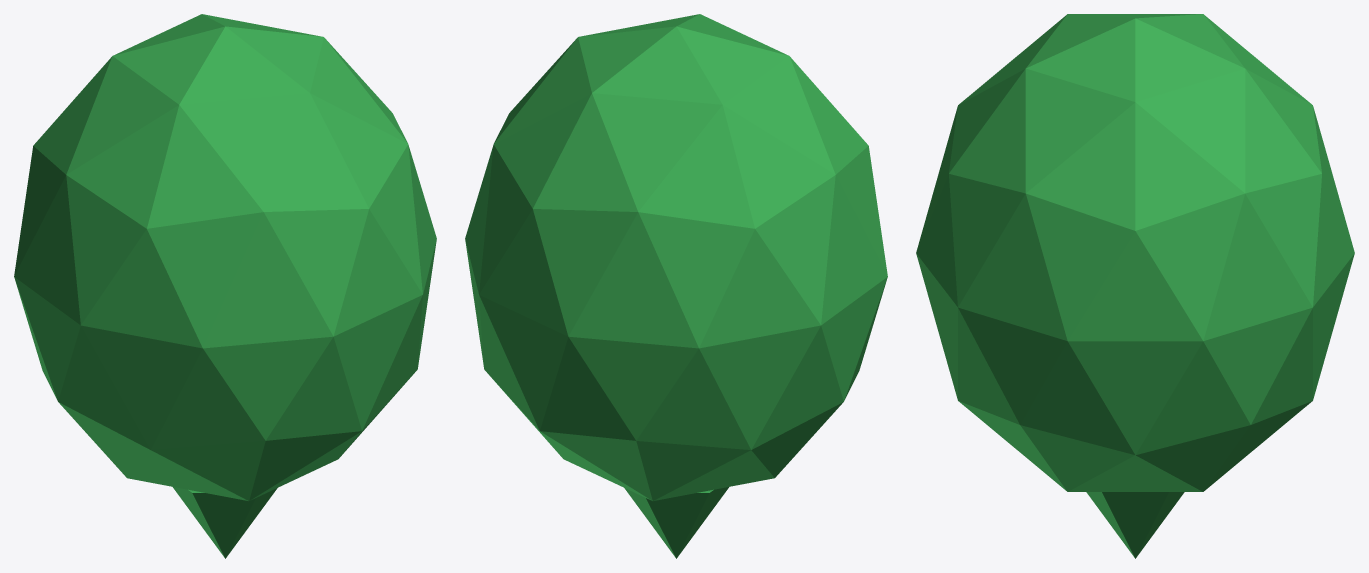
Rendered from balloon_green.glb.
The picture shows the model from 3 angles, left to right: view 1: azimuth 30°, elevation 25°; view 2: azimuth 150°, elevation 25°; view 3: azimuth 270°, elevation 25°; orthographic projection.
Parts seen in each view (by area): view 1: balloon_green; view 2: balloon_green; view 3: balloon_green.
Part boxes in pixels (box(x1,y1,x2,y2)): balloon_green: box(14, 14, 436, 558); balloon_green: box(465, 14, 887, 558); balloon_green: box(916, 14, 1354, 558).
Bounding box in the file's own units: 0.2473 × 0.3534 × 0.26.
